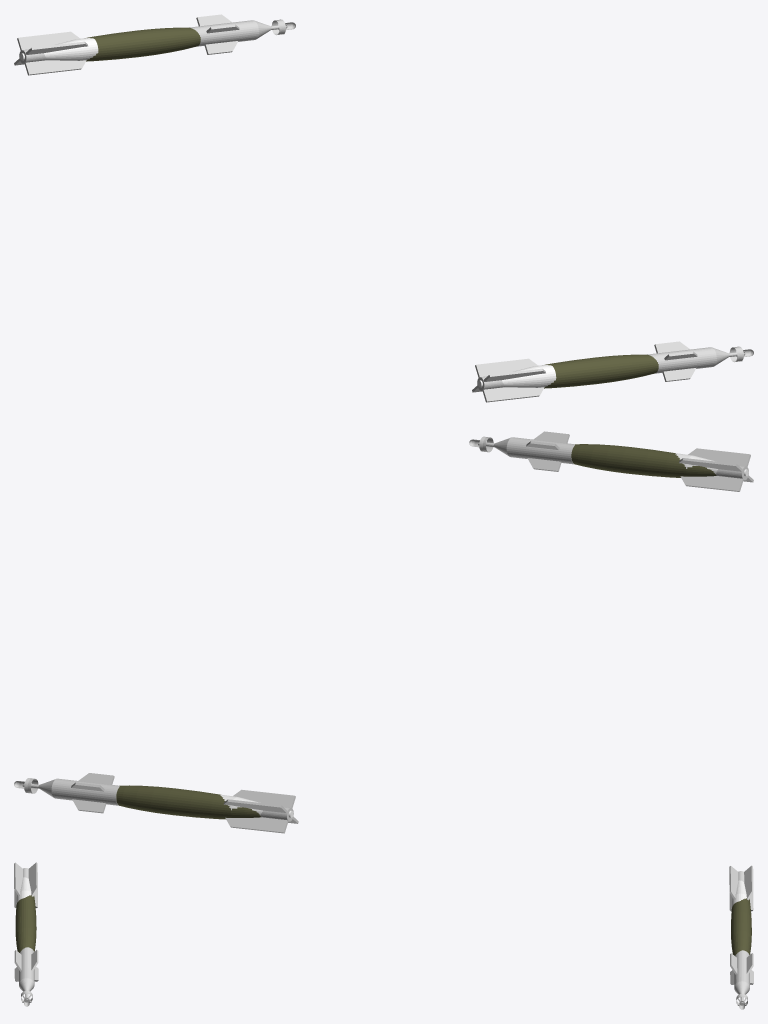
Rendered from a10cgbu121102.glb.
3 renders of one model, top to bottom at view 1: azimuth 30°, elevation 25°; view 2: azimuth 150°, elevation 25°; view 3: azimuth 270°, elevation 25°, orthographic. The views are drawn at different scales.
Visible parts, largest first — view 1: 円柱.010, 円柱.012; view 2: 円柱.010, 円柱.012; view 3: 円柱.010, 円柱.012.
Part boxes in pixels (bbox=[...]): 円柱.010: bbox=[14, 14, 295, 75]; 円柱.012: bbox=[472, 341, 753, 402]; 円柱.010: bbox=[14, 773, 298, 833]; 円柱.012: bbox=[469, 431, 753, 491]; 円柱.010: bbox=[729, 865, 753, 1009]; 円柱.012: bbox=[14, 862, 38, 1006].
Bounding box in the file's own units: 3.7 × 0.7628 × 10.85.
2 materials, 1 textured.
